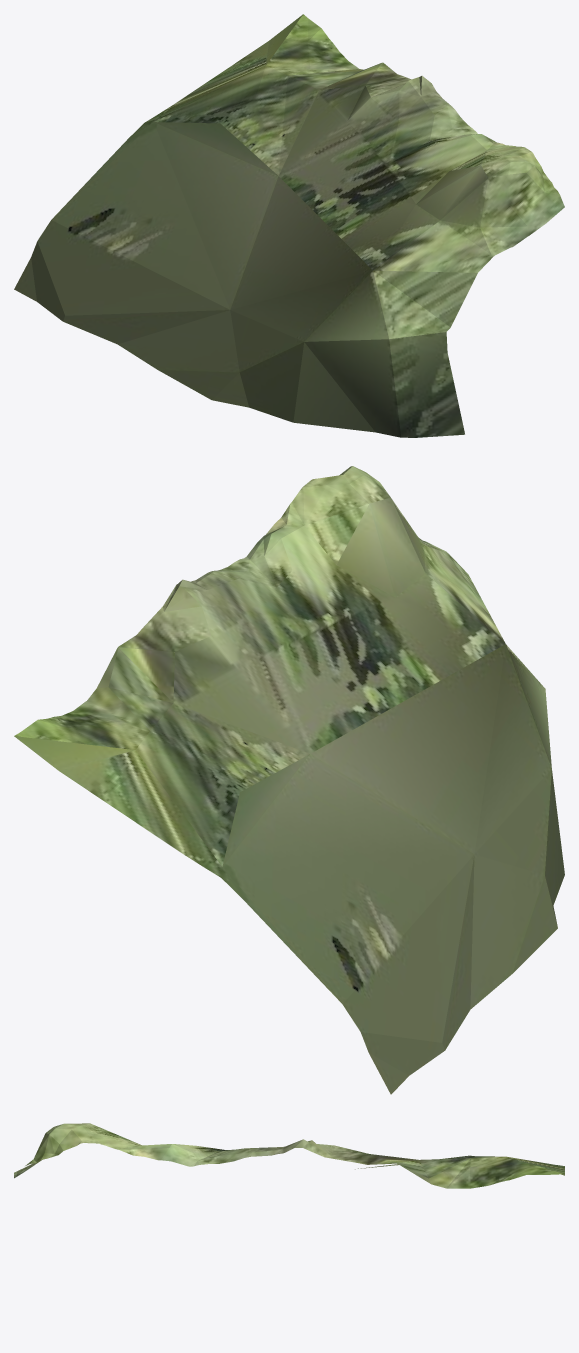
The picture shows the model from 3 angles, top to bottom: view 1: azimuth 30°, elevation 25°; view 2: azimuth 150°, elevation 25°; view 3: azimuth 270°, elevation 25°; orthographic projection. The views are drawn at different scales.
Bounding box in the file's own units: 16.67 × 13.17 × 26.11.
2 materials, 2 textured.
